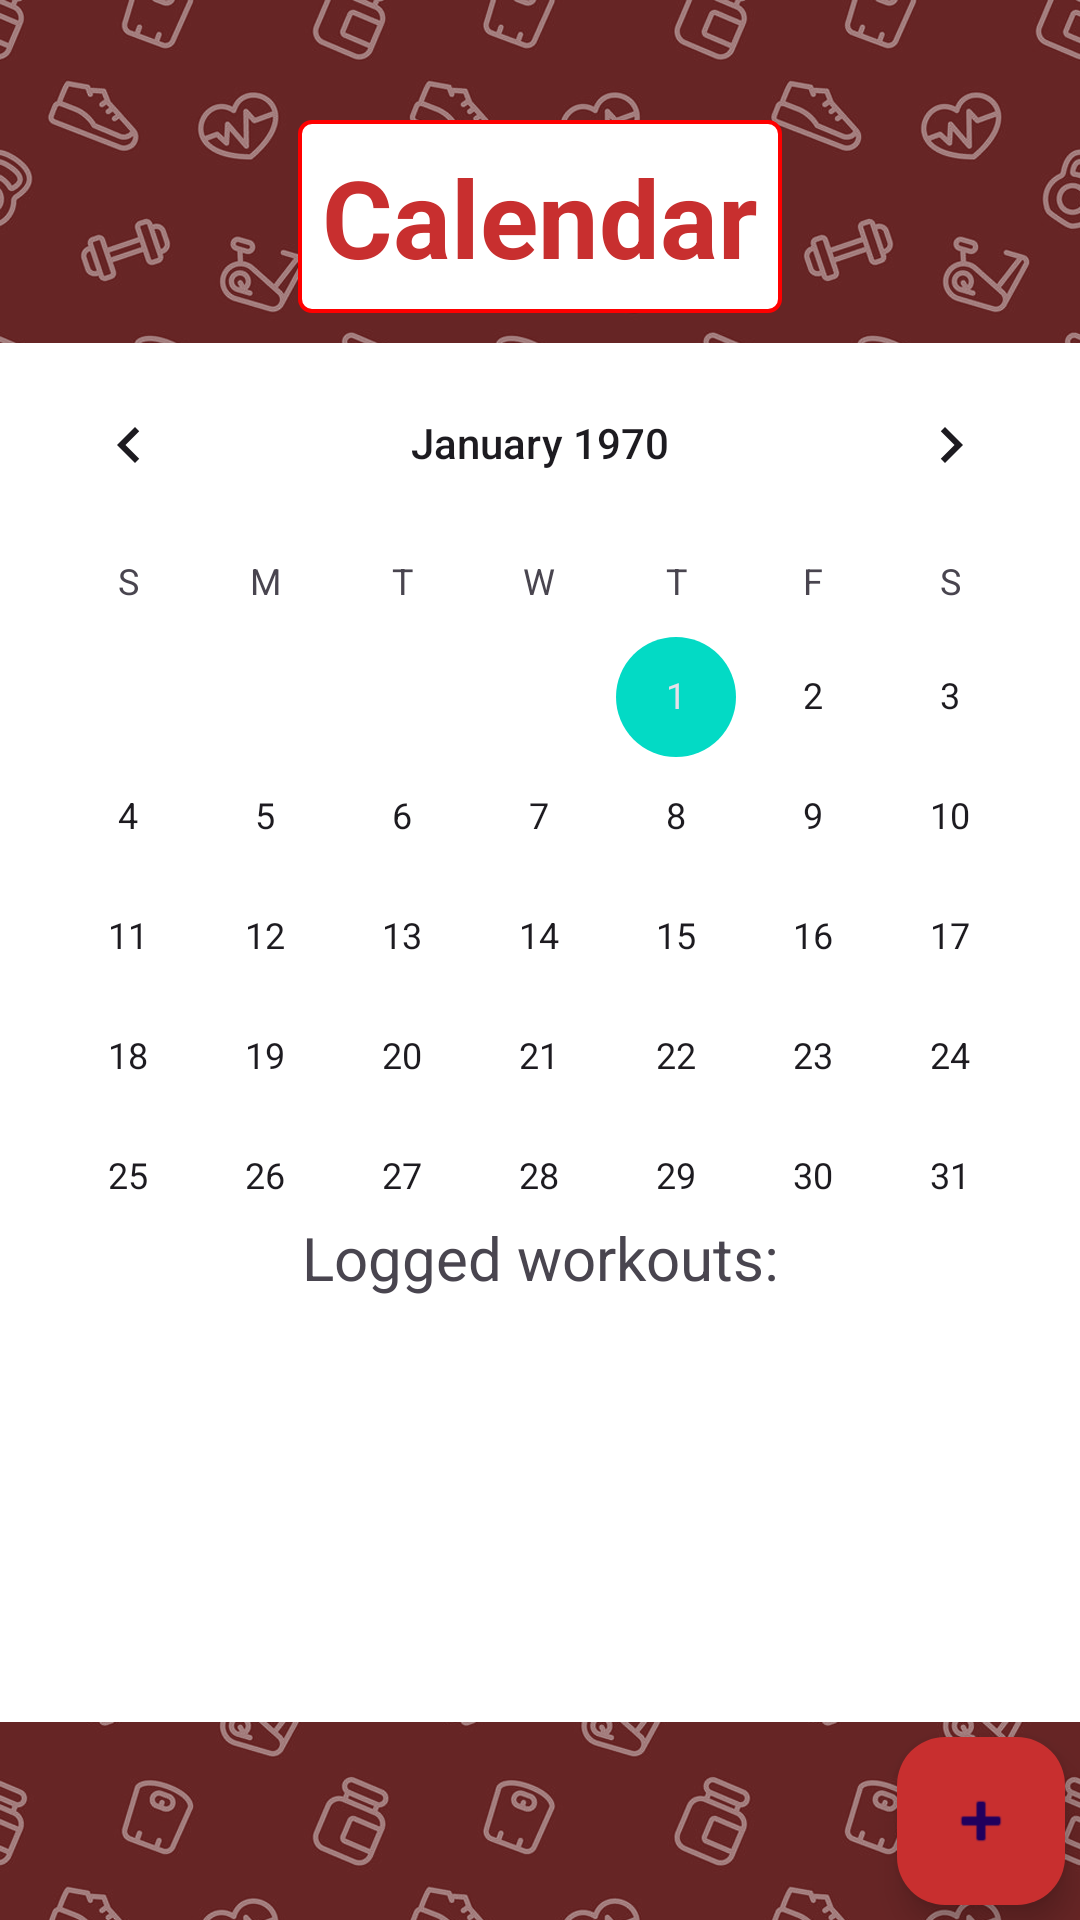

Icon click points for this 1080px x 1920px phone screenshot, format (x=x, y=y):
add: (x=981, y=1821)
